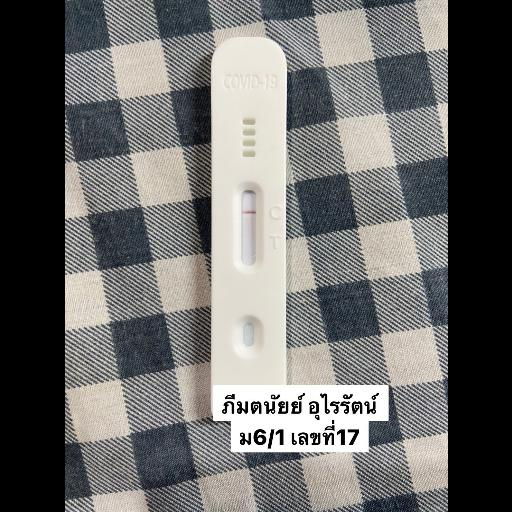Neg: (210, 36, 286, 384)
